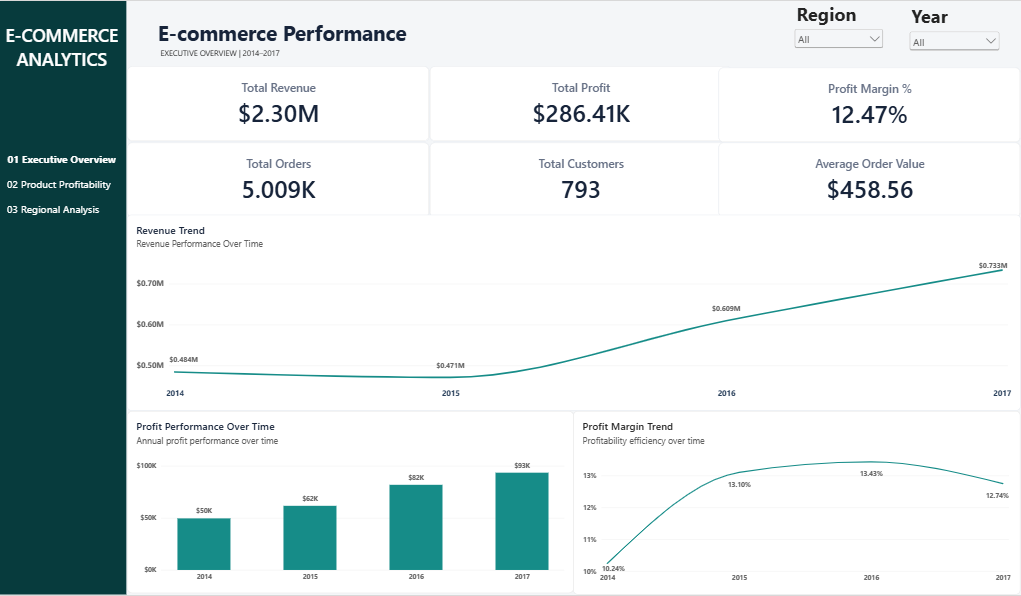

What the dashboard file says about the page in this screenshot:
{"tool":"powerbi","page":{"name":"Page 1","canvas":[1920,1080],"ordinal":0},"visuals":[{"type":"cardVisual","fields":{"Data":["Orders.Total Revenue"]},"box":[235.4,118.8,550,137.5],"z":0},{"type":"cardVisual","fields":{"Data":["Orders.Total Profit"]},"box":[785.4,118.8,550,137.5],"z":1000},{"type":"cardVisual","fields":{"Data":["Orders.Profit Margin %"]},"box":[1310.4,120.8,550,137],"z":2000},{"type":"cardVisual","fields":{"Data":["Orders.Total Orders"]},"box":[235.4,256.2,550,137],"z":3000},{"type":"cardVisual","fields":{"Data":["Orders.Total Customers"]},"box":[785.4,256.2,550,137],"z":4000},{"type":"cardVisual","fields":{"Data":["Orders.Average Order Value"]},"box":[1310.4,256.2,550,137],"z":5000},{"type":"lineChart","title":"Revenue Trend","fields":{"Category":["DateTable.Year"],"Y":["Orders.Total Revenue"]},"box":[235.4,389.6,1625,356.2],"z":6000},{"type":"columnChart","title":"\tProfit Performance Over Time","fields":{"Category":["DateTable.Year"],"Y":["Orders.Total Profit"]},"box":[235.4,745.8,812.5,331.2],"z":7000},{"type":"shape","box":[0,0,235.4,1079.2],"z":8000},{"type":"lineChart","title":"Profit Margin Trend","fields":{"Category":["DateTable.Year"],"Y":["Orders.Profit Margin %"]},"box":[1047.9,745.8,812.5,333.3],"z":9000},{"type":"textbox","box":[0,41.7,235.4,133.3],"z":10000},{"type":"textbox","box":[0,275,235.4,31.2],"z":11000},{"type":"textbox","box":[18.8,320.8,216.7,45.8],"z":12000},{"type":"textbox","box":[18.8,366.7,216.7,43.8],"z":13000},{"type":"textbox","box":[281.2,0,1089.6,83.3],"z":14000},{"type":"textbox","box":[281.2,83.3,475,54.2],"z":15000},{"type":"slicer","fields":{"Values":["DateTable.Year"]},"box":[1654.2,4.2,172.9,106.2],"z":16000},{"type":"slicer","fields":{"Values":["Orders.Region"]},"box":[1445.8,0,170.8,120.8],"z":17000}]}

Visuals, with their boxes on the page's 1920x1080 design canvas (x1, y1, x2, y2). These are canvas units, not pixel positions in the 1021x596 screenshot, which may show the page scaled, cropped or inside an application window:
cardVisual - Orders.Total Revenue: rect(235, 119, 785, 256)
cardVisual - Orders.Total Profit: rect(785, 119, 1335, 256)
cardVisual - Orders.Profit Margin %: rect(1310, 121, 1860, 258)
cardVisual - Orders.Total Orders: rect(235, 256, 785, 393)
cardVisual - Orders.Total Customers: rect(785, 256, 1335, 393)
cardVisual - Orders.Average Order Value: rect(1310, 256, 1860, 393)
"Revenue Trend" lineChart: rect(235, 390, 1860, 746)
"	Profit Performance Over Time" columnChart: rect(235, 746, 1048, 1077)
shape: rect(0, 0, 235, 1079)
"Profit Margin Trend" lineChart: rect(1048, 746, 1860, 1079)
textbox: rect(0, 42, 235, 175)
textbox: rect(0, 275, 235, 306)
textbox: rect(19, 321, 236, 367)
textbox: rect(19, 367, 236, 410)
textbox: rect(281, 0, 1371, 83)
textbox: rect(281, 83, 756, 138)
slicer - DateTable.Year: rect(1654, 4, 1827, 110)
slicer - Orders.Region: rect(1446, 0, 1617, 121)
